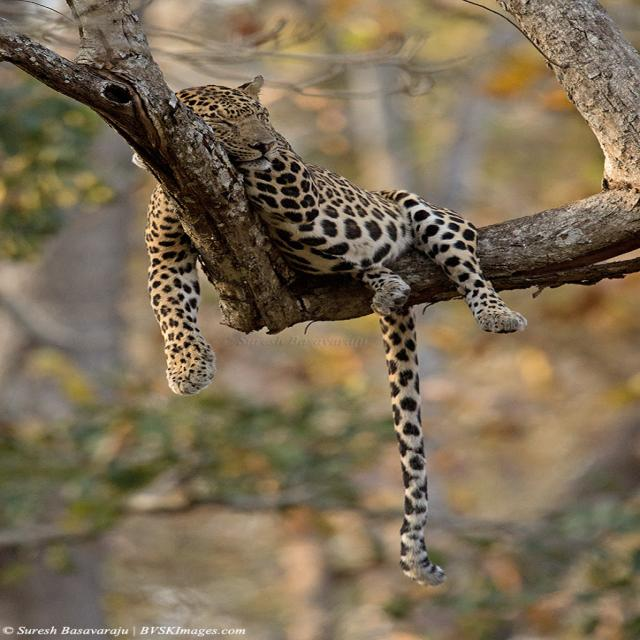Leopard: (149, 79, 522, 585)
